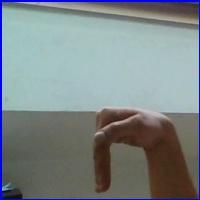del: (89, 101, 171, 195)
